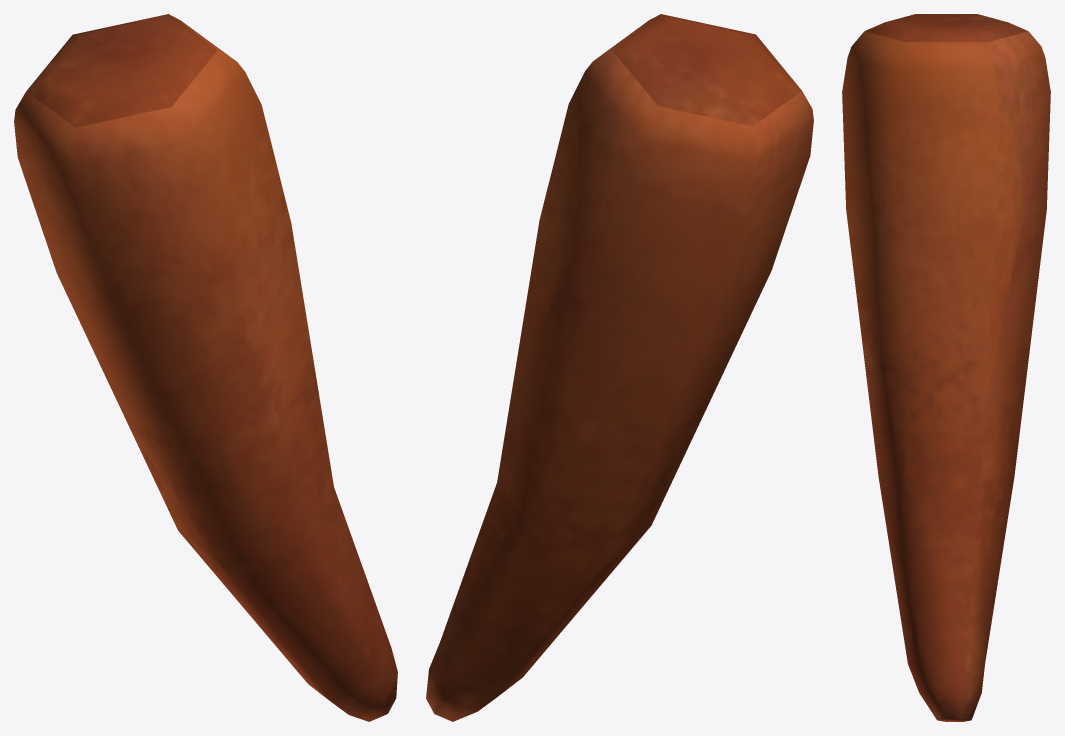
Rendered from LP_CarrotCooked.glb.
3 renders of one model, left to right at view 1: azimuth 30°, elevation 25°; view 2: azimuth 150°, elevation 25°; view 3: azimuth 270°, elevation 25°, orthographic. The views are drawn at different scales.
Visible parts, largest first — view 1: Circle; view 2: Circle; view 3: Circle.
Part boxes in pixels (x1,y1,x2,y2): Circle: (14, 14, 397, 721); Circle: (426, 14, 813, 721); Circle: (842, 14, 1050, 721).
Size of the model in its own units: 0.2909 by 0.5815 by 0.1798.
Materials: 1 (1 with a texture image).
